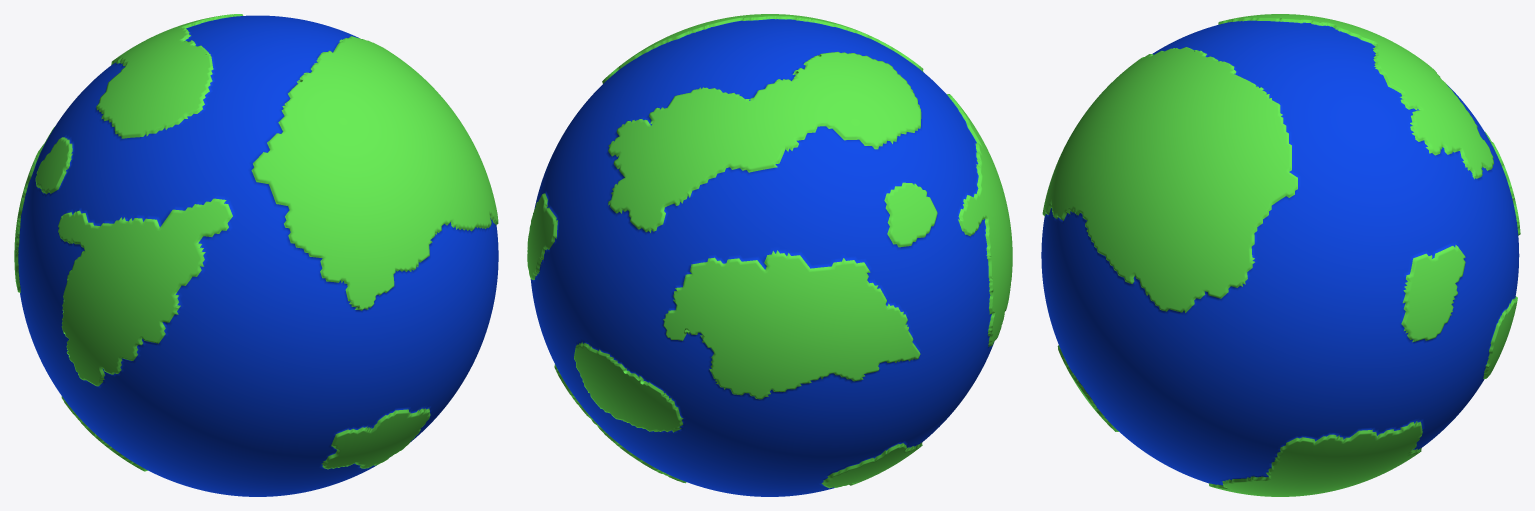
The model's file is planetson1fbx.fbx.
3 views of the same model, side by side, from view 1: azimuth 30°, elevation 25°; view 2: azimuth 150°, elevation 25°; view 3: azimuth 270°, elevation 25° (orthographic).
Parts seen in each view (by area): view 1: planet; view 2: planet; view 3: planet.
Boxes of the visible parts, x1,y1,x2,y2 form: planet: (14,14,498,496); planet: (527,14,1012,496); planet: (1041,14,1520,496).
Size of the model in its own units: 1046 by 1043 by 1046.
